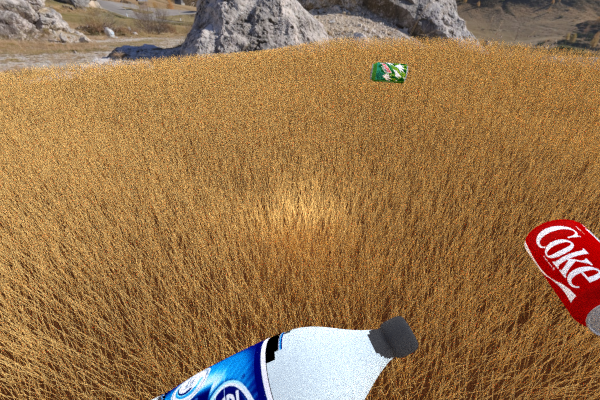bottle: (20, 316, 418, 400)
can: (524, 219, 600, 339), (369, 62, 408, 83)
